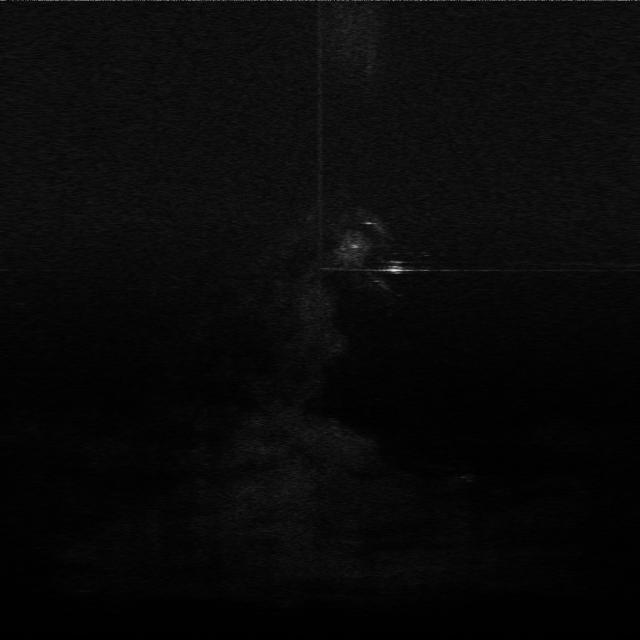rov: (382, 258, 407, 274)
